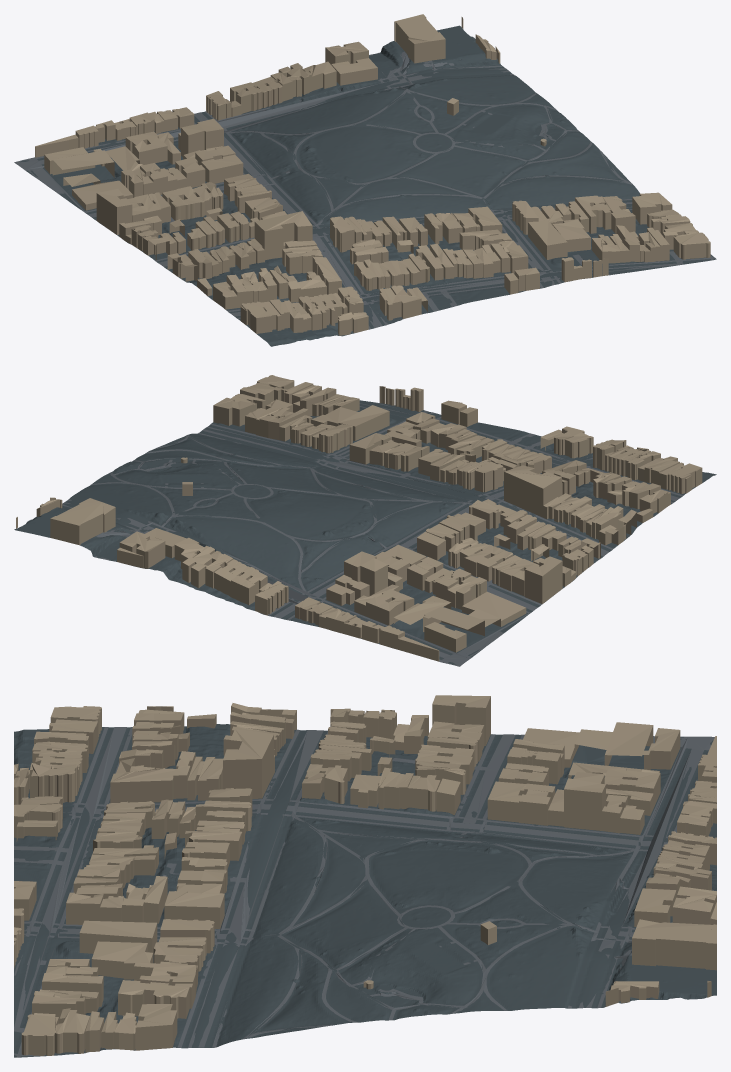
The model's file is epsg26910-1431-10888.lod0.glb.
3 renders of one model, top to bottom at view 1: azimuth 30°, elevation 25°; view 2: azimuth 150°, elevation 25°; view 3: azimuth 270°, elevation 25°, orthographic. The views are drawn at different scales.
Parts seen in each view (by area): view 1: epsg26910-1431-10888-lod0; view 2: epsg26910-1431-10888-lod0; view 3: epsg26910-1431-10888-lod0.
Boxes of the visible parts, x1=… form: epsg26910-1431-10888-lod0: x1=14, y1=14, x2=716, y2=346; epsg26910-1431-10888-lod0: x1=14, y1=375, x2=716, y2=666; epsg26910-1431-10888-lod0: x1=14, y1=695, x2=716, y2=1057.
Bounding box in the file's own units: 384 × 54.15 × 384.
